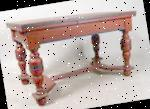Mesa: (2, 0, 149, 108)
